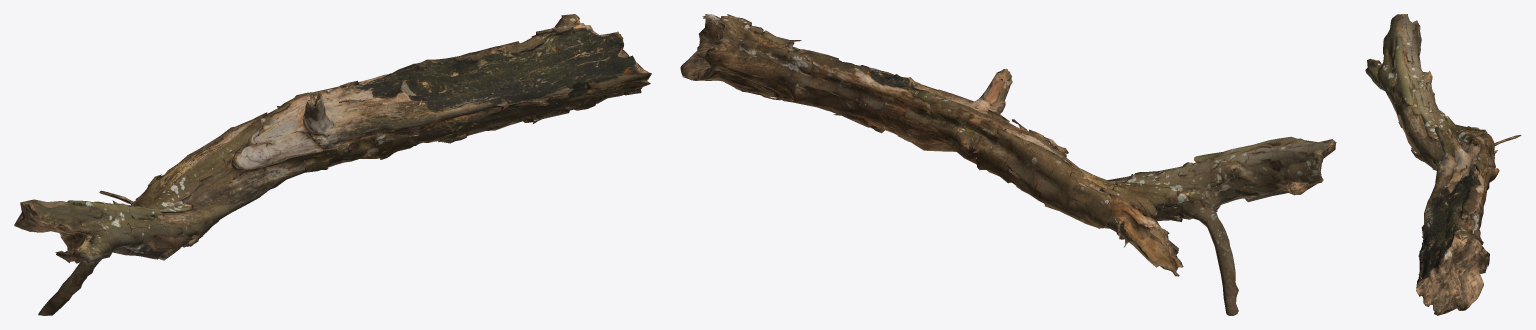
Rendered from devrik_kutuk.gltf.
3 views of the same model, side by side, from view 1: azimuth 30°, elevation 25°; view 2: azimuth 150°, elevation 25°; view 3: azimuth 270°, elevation 25° (orthographic). The views are drawn at different scales.
Parts seen in each view (by area): view 1: devrik_kutuk; view 2: devrik_kutuk; view 3: devrik_kutuk.
Part boxes in pixels (x1,y1,x2,y2): devrik_kutuk: (14,14,651,315); devrik_kutuk: (680,14,1336,315); devrik_kutuk: (1365,14,1521,315).
Size of what is drawn, in the model's own units: 4.05 by 1.06 by 1.05.
Materials: 1 (1 with a texture image).
